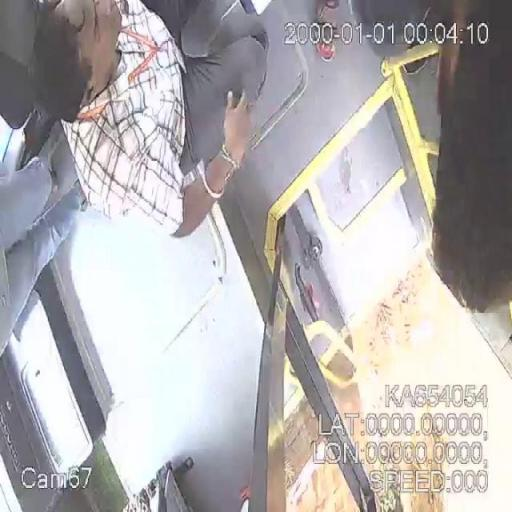persona: (0, 0, 270, 251)
